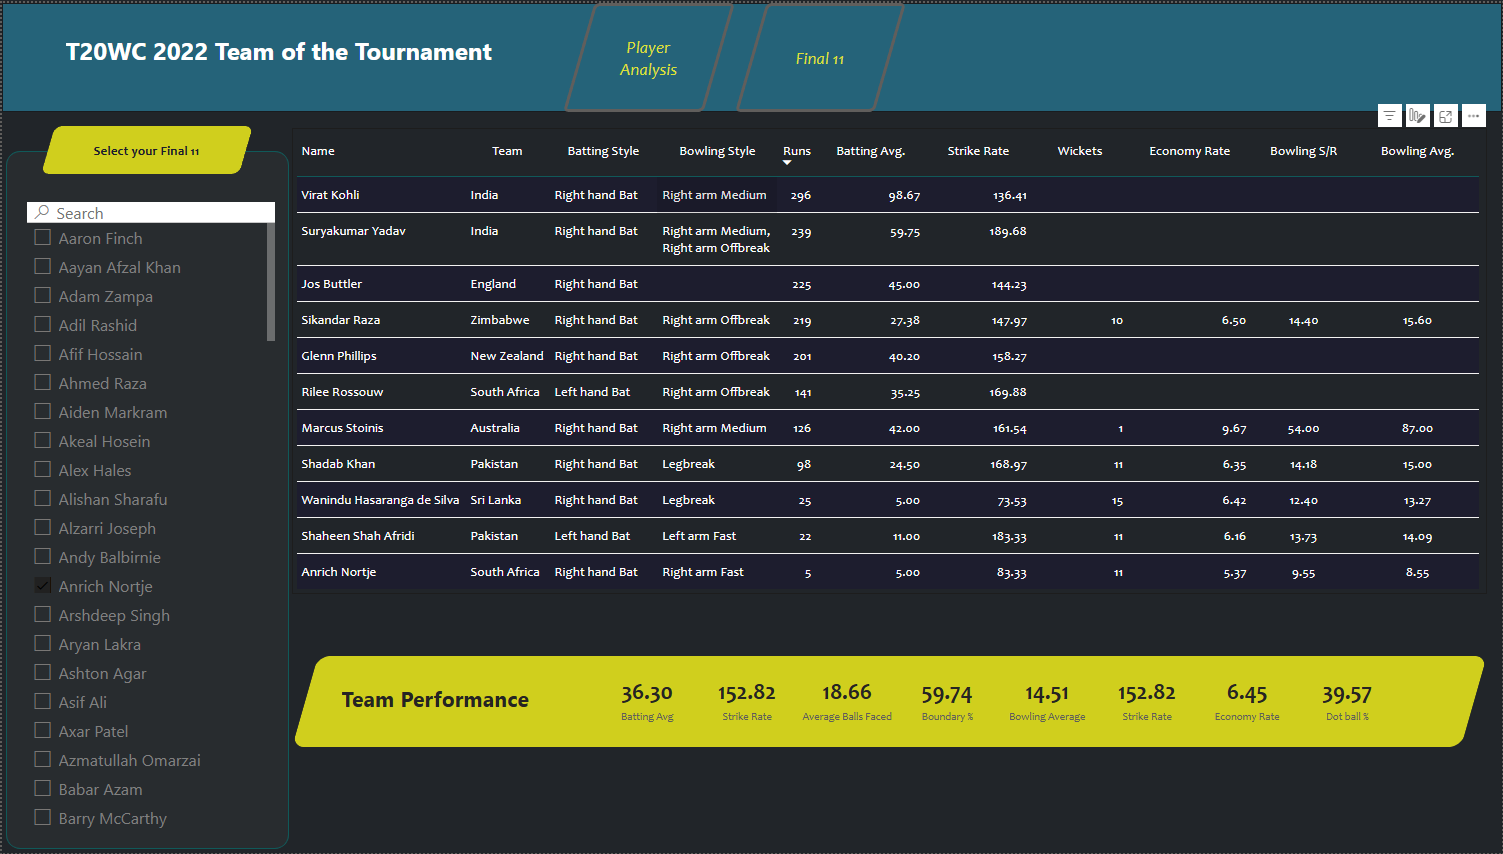

This screenshot's page, from the dashboard's own definition file:
{"tool":"powerbi","page":{"name":"Final 11","canvas":[1500,850],"ordinal":4},"visuals":[{"type":"shape","box":[0,0,1500,108.8],"z":0},{"type":"pivotTable","fields":{"Values":["Min(players_info.Team)","Min(players_info.battingStyle)","Min(players_info.bowlingStyle)","Key_Measures.Total Runs","Key_Measures.Batting Avg","Key_Measures.Strike Rate","Key_Measures.Total Wickets","Key_Measures.Economy Rate","Key_Measures.Bowling Strike Rate","Key_Measures.Bowling Average"],"Rows":["players_info.Name"]},"box":[290,125,1195,466.2],"z":1000},{"type":"shape","box":[3.8,147.5,282.5,697.5],"z":1000,"group":"g1"},{"type":"group","id":"g1","title":"Group 1","box":[3.8,147.5,282.5,697.5],"z":2000},{"type":"shape","box":[38.8,122.5,212.5,48.8],"z":3000},{"type":"shape","box":[290,652.5,1195,91.2],"z":4000},{"type":"textbox","box":[335,676.2,208.8,45],"z":5000},{"type":"card","fields":{"Values":["Key_Measures.Bat Avg"]},"box":[595,661.2,100,68.8],"z":6000},{"type":"card","fields":{"Values":["Key_Measures.Strike Rate"]},"box":[695,661.2,100,68.8],"z":7000},{"type":"card","fields":{"Values":["Key_Measures.Average Balls Faced"]},"box":[795,661.2,100,68.8],"z":8000},{"type":"card","fields":{"Values":["Key_Measures.Boundary %"]},"box":[895,661.2,100,68.8],"z":9000},{"type":"card","fields":{"Values":["Key_Measures.Bowling Average"]},"box":[995,661.2,100,68.8],"z":10000},{"type":"slicer","fields":{"Values":["players_info.Name"]},"box":[20,193.7,257.5,638.8],"z":11000,"group":"g1"},{"type":"card","fields":{"Values":["Key_Measures.Strike Rate"]},"box":[1095,661.2,100,68.8],"z":11000},{"type":"card","fields":{"Values":["Key_Measures.Economy Rate"]},"box":[1195,661.2,100,68.8],"z":12000},{"type":"card","fields":{"Values":["Key_Measures.Dot ball %"]},"box":[1295,661.2,100,68.8],"z":13000},{"type":"actionButton","box":[561.2,0,171.2,108.8],"z":14000},{"type":"actionButton","box":[732.5,0,171.2,108.8],"z":15000},{"type":"textbox","box":[58.8,26.2,458.8,62.5],"z":15001}]}

Visuals, with their boxes on the page's 1500x850 design canvas (x1, y1, x2, y2). These are canvas units, not pixel positions in the 1503x854 screenshot, which may show the page scaled, cropped or inside an application window:
shape: 0/0/1500/109
pivotTable - Min(players_info.Team) x Min(players_info.battingStyle): 290/125/1485/591
shape: 4/148/286/845
"Group 1" group: 4/148/286/845
shape: 39/122/251/171
shape: 290/652/1485/744
textbox: 335/676/544/721
card - Key_Measures.Bat Avg: 595/661/695/730
card - Key_Measures.Strike Rate: 695/661/795/730
card - Key_Measures.Average Balls Faced: 795/661/895/730
card - Key_Measures.Boundary %: 895/661/995/730
card - Key_Measures.Bowling Average: 995/661/1095/730
slicer - players_info.Name: 20/194/278/832
card - Key_Measures.Strike Rate: 1095/661/1195/730
card - Key_Measures.Economy Rate: 1195/661/1295/730
card - Key_Measures.Dot ball %: 1295/661/1395/730
actionButton: 561/0/732/109
actionButton: 732/0/904/109
textbox: 59/26/518/89
